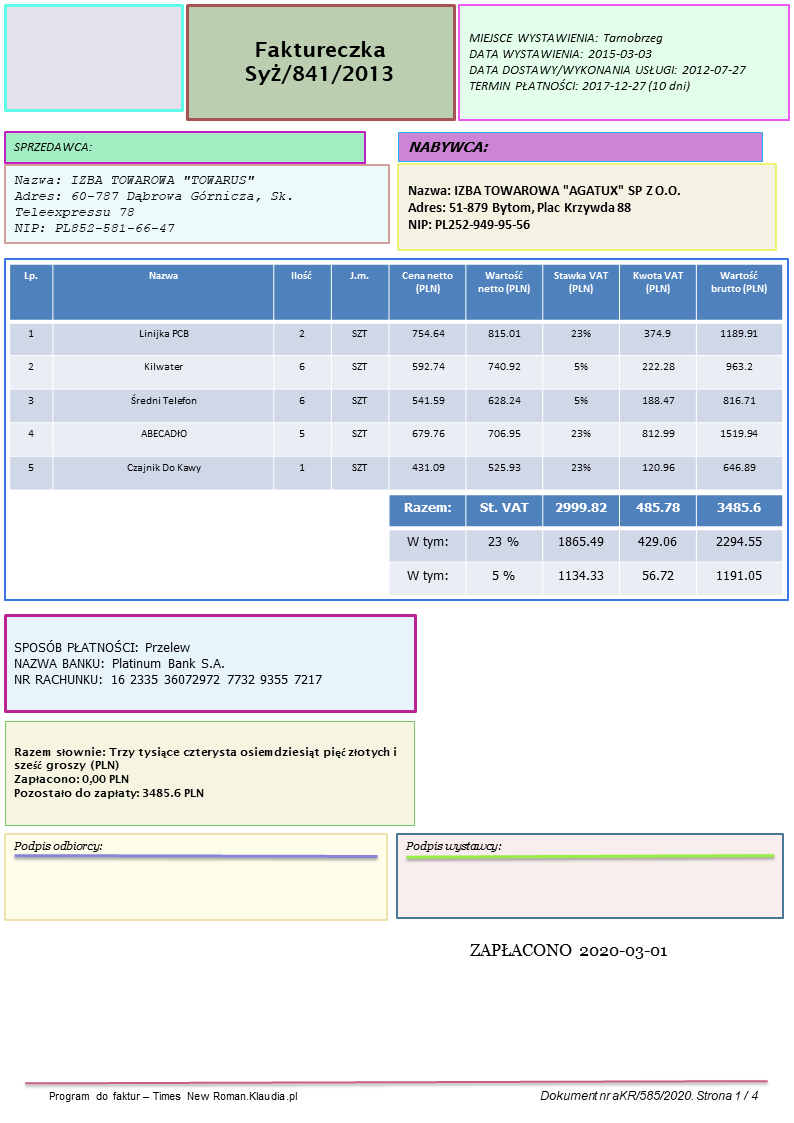Table: (9, 263, 785, 490), (387, 493, 783, 594)
TextBox: (9, 741, 403, 804), (466, 28, 750, 96), (11, 171, 294, 237), (11, 638, 324, 688), (405, 181, 684, 235), (242, 38, 395, 91), (466, 938, 671, 963), (535, 1086, 760, 1107), (45, 1087, 302, 1105), (403, 837, 502, 856), (406, 136, 489, 157), (11, 138, 95, 157), (12, 837, 103, 854)
